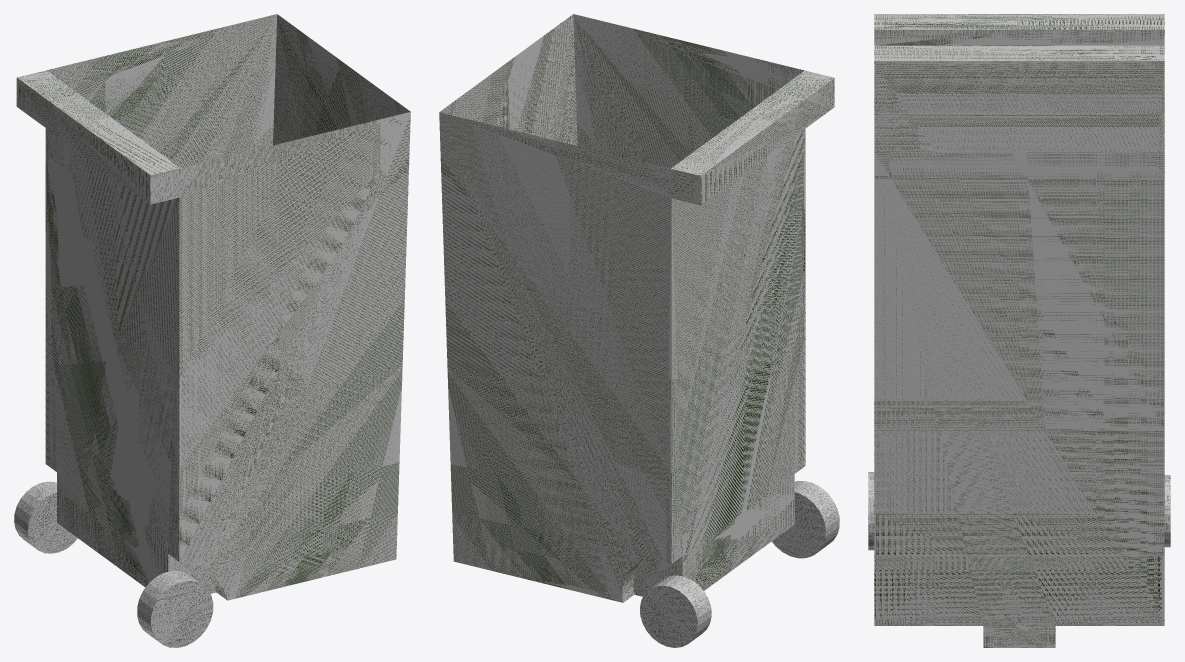
3 views of the same model, side by side, from view 1: azimuth 30°, elevation 25°; view 2: azimuth 150°, elevation 25°; view 3: azimuth 270°, elevation 25° (orthographic). The views are drawn at different scales.
Visible parts, largest first — view 1: mesh1.001_mesh1-geometry, mesh3.001_mesh3-geometry, mesh2.001_mesh2-geometry; view 2: mesh1.001_mesh1-geometry, mesh2.001_mesh2-geometry, mesh3.001_mesh3-geometry; view 3: mesh1.001_mesh1-geometry, mesh3.001_mesh3-geometry, mesh2.001_mesh2-geometry.
Part boxes in pixels (box(x1,y1,x2,y2)): mesh1.001_mesh1-geometry: box(16, 14, 410, 600); mesh3.001_mesh3-geometry: box(137, 570, 213, 647); mesh2.001_mesh2-geometry: box(14, 481, 77, 553); mesh1.001_mesh1-geometry: box(439, 14, 834, 602); mesh2.001_mesh2-geometry: box(640, 575, 711, 647); mesh3.001_mesh3-geometry: box(772, 481, 839, 558); mesh1.001_mesh1-geometry: box(874, 14, 1164, 647); mesh3.001_mesh3-geometry: box(868, 472, 874, 550); mesh2.001_mesh2-geometry: box(1164, 475, 1170, 547).
Size of the model in its own units: 0.454 by 0.7875 by 0.4169.
